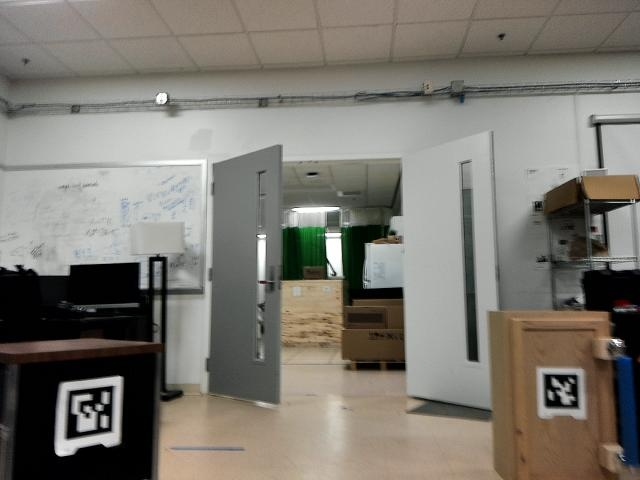noodle_handle: (612, 351, 636, 463)
